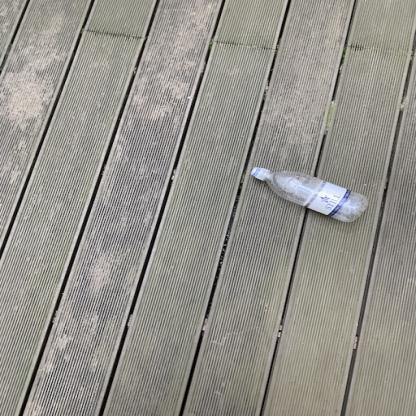trash: (249, 164, 372, 227)
